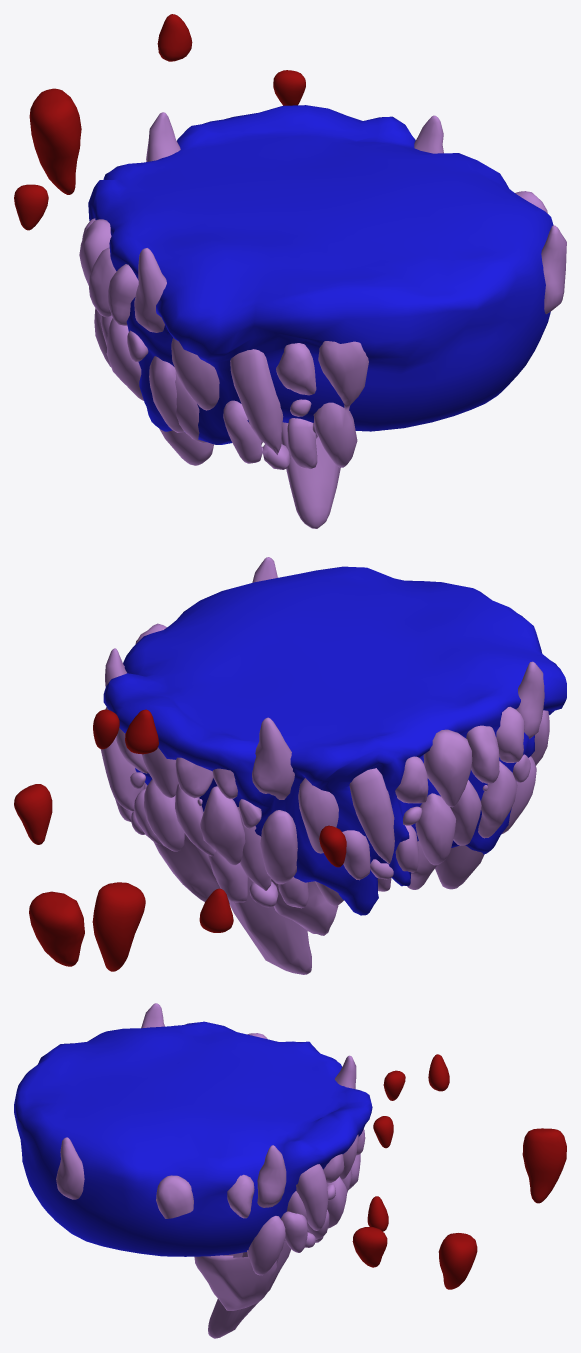
File: SM_Platform.fbx
3 renders of one model, top to bottom at view 1: azimuth 30°, elevation 25°; view 2: azimuth 150°, elevation 25°; view 3: azimuth 270°, elevation 25°, orthographic. The views are drawn at different scales.
Visible parts, largest first — view 1: platformrock; view 2: platformrock; view 3: platformrock.
Part boxes in pixels (left/top/right/bottom): platformrock: left=14, top=14, right=566, bottom=528; platformrock: left=14, top=557, right=566, bottom=974; platformrock: left=14, top=1003, right=566, bottom=1338.
Bounding box in the file's own units: 6.09 × 5.44 × 9.52.
